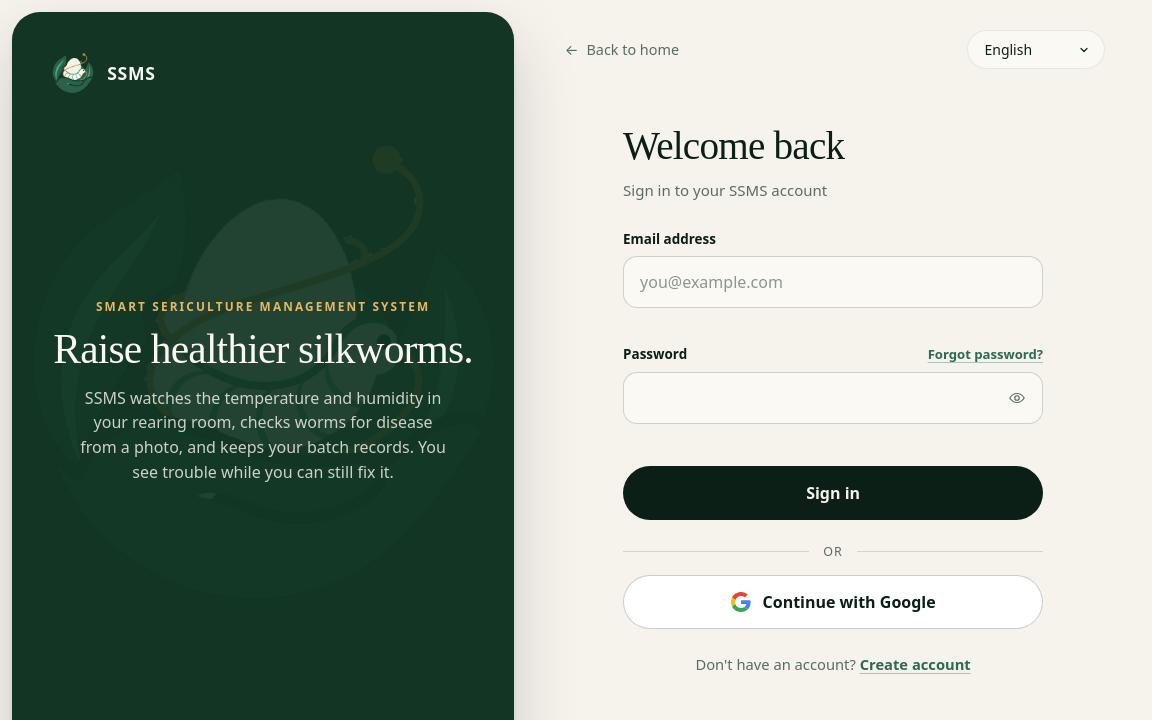
it: Login page › shows the server message when sign in fails
The image size is (1152, 720).
In the field labelled "Email address": (833, 282) left=623, top=256, right=1043, bottom=308, type "a@b.rw"
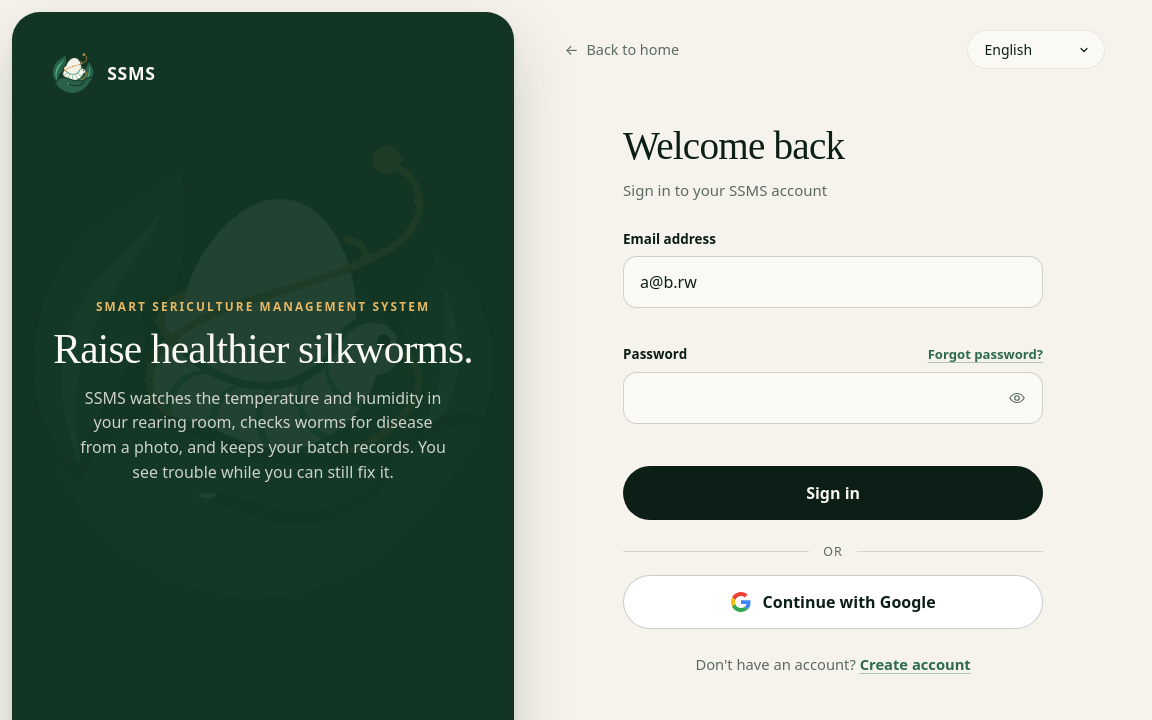
In the password field labelled "Password": (833, 398) left=623, top=372, right=1043, bottom=424, type "nope"
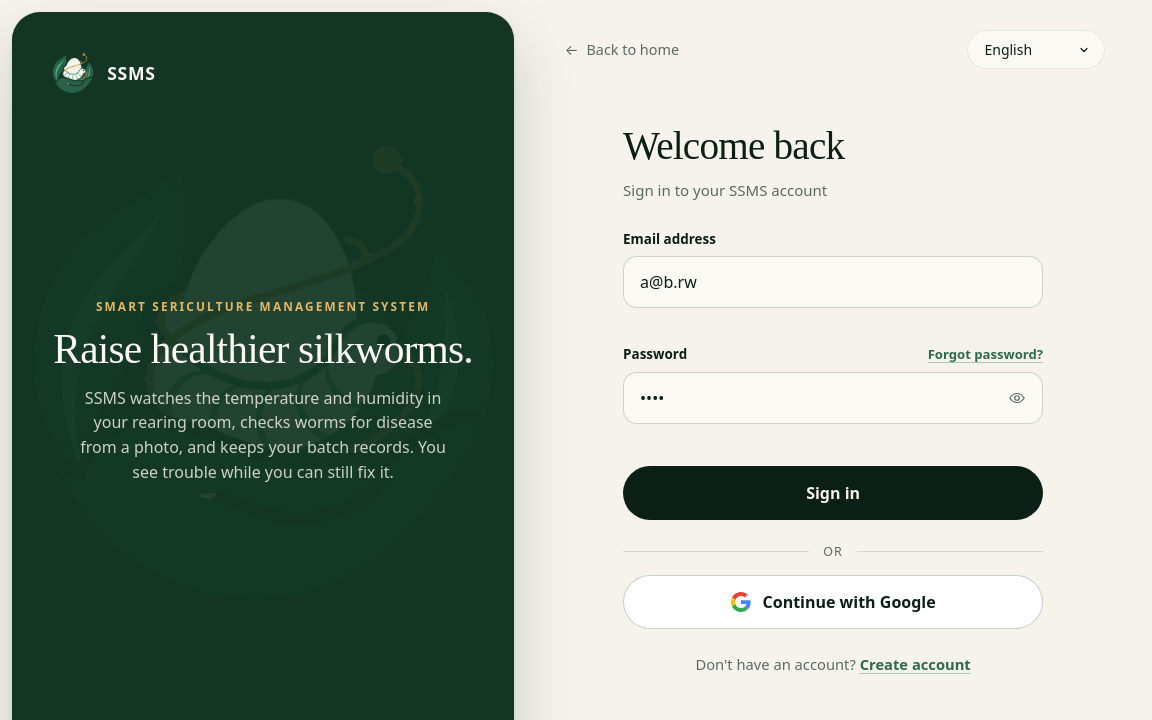
Click the button "Sign in": click(833, 493) left=623, top=466, right=1043, bottom=520
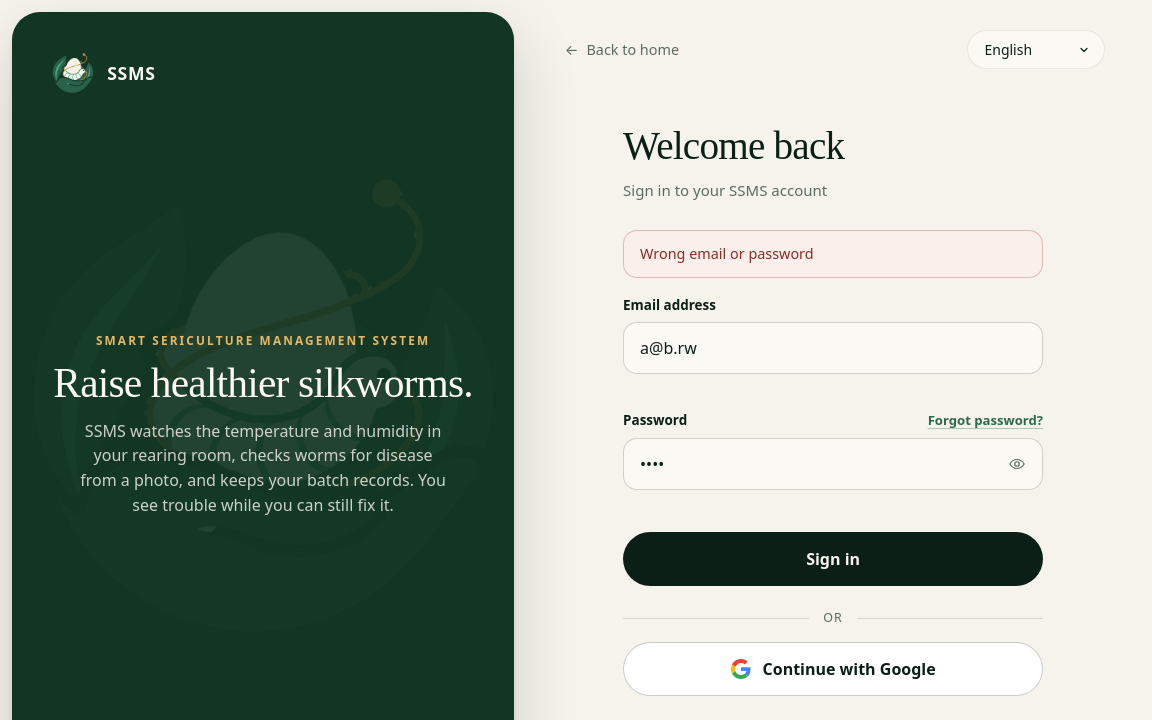
expect the message reads "Wrong email or password": met, box left=640, top=244, right=814, bottom=263
